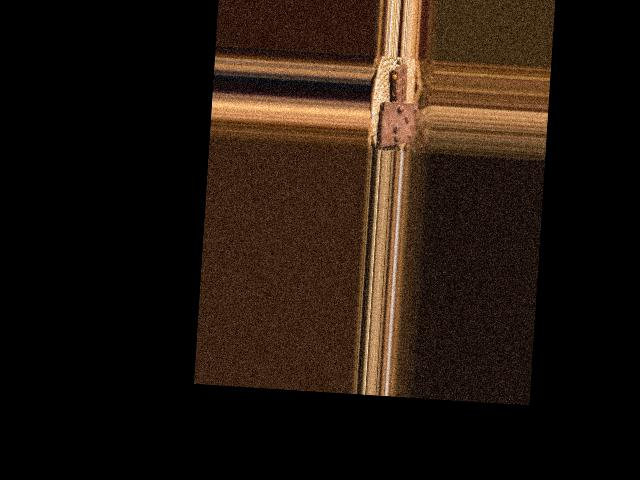chocolate: (376, 98, 419, 149)
